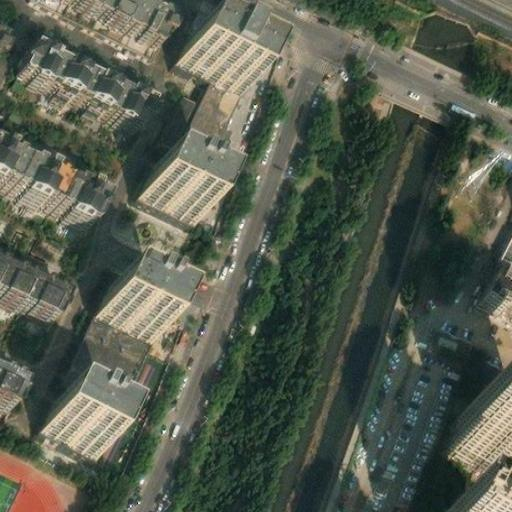building: (55, 307, 152, 413), (17, 46, 136, 122), (167, 75, 240, 183), (0, 140, 101, 218), (177, 28, 257, 90), (66, 0, 168, 44), (94, 275, 163, 333), (40, 387, 110, 444), (134, 161, 204, 217), (443, 416, 512, 470), (0, 270, 55, 324), (482, 271, 512, 311)
